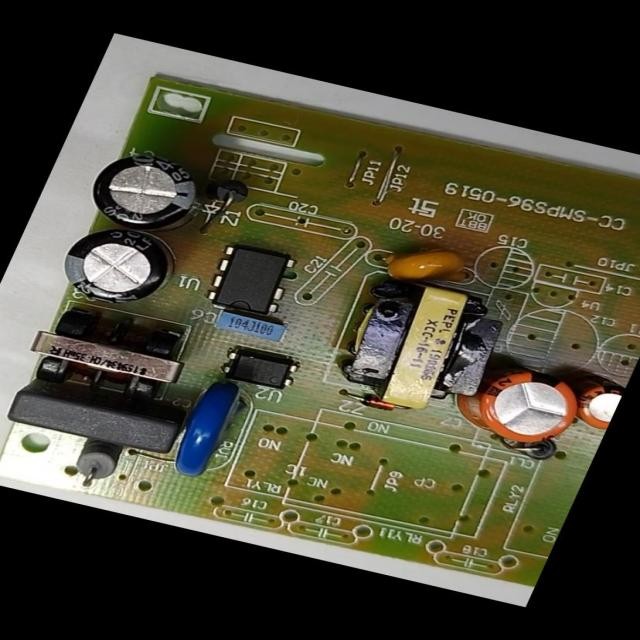Cap1: (440, 349, 597, 458)
Cap2: (562, 370, 628, 432)
Cap3: (46, 216, 189, 315)
Cap4: (70, 139, 214, 245)
MOSFET: (193, 234, 309, 324)
Mov: (155, 372, 256, 484)
Resistor: (57, 432, 137, 498)
Transformer: (316, 260, 527, 427), (14, 287, 210, 420)
